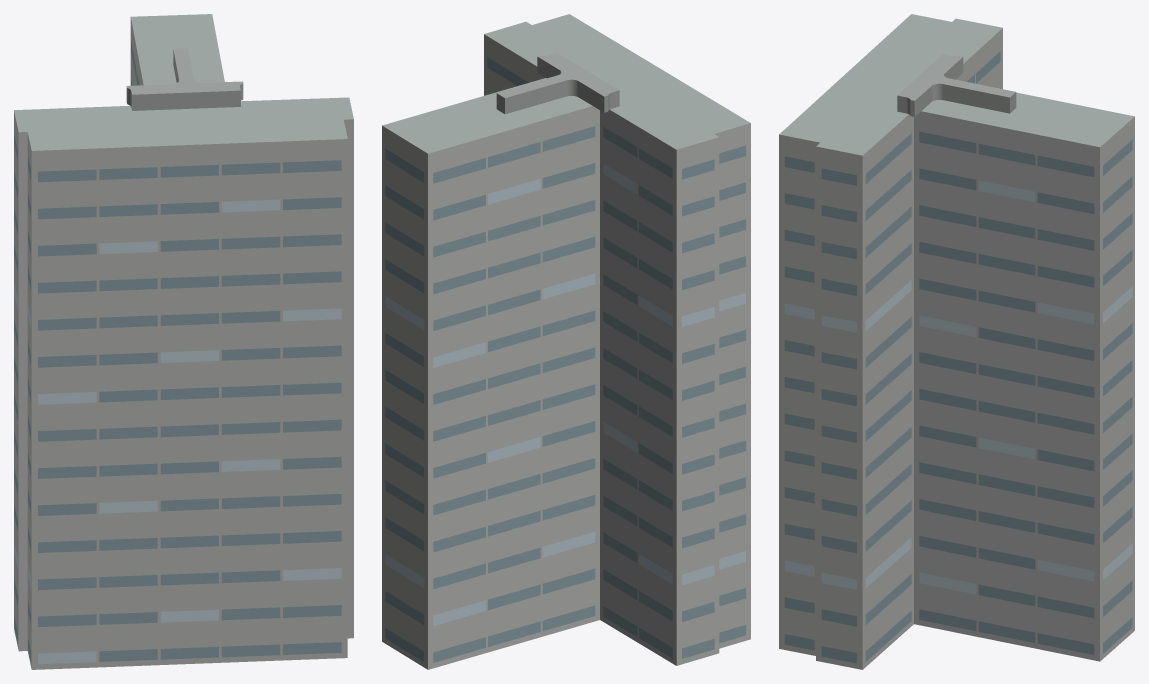
Rendered from fallback-prestige-117.glb.
The picture shows the model from 3 angles, left to right: view 1: azimuth 30°, elevation 25°; view 2: azimuth 150°, elevation 25°; view 3: azimuth 270°, elevation 25°; orthographic projection.
Visible parts, largest first — view 1: fallback-prestige-117; view 2: fallback-prestige-117; view 3: fallback-prestige-117.
Boxes of the visible parts, x1,y1,x2,y2 form: fallback-prestige-117: (14,14,353,669); fallback-prestige-117: (382,14,750,669); fallback-prestige-117: (779,14,1134,669).
Bounding box in the file's own units: 45.25 × 79 × 48.03.
